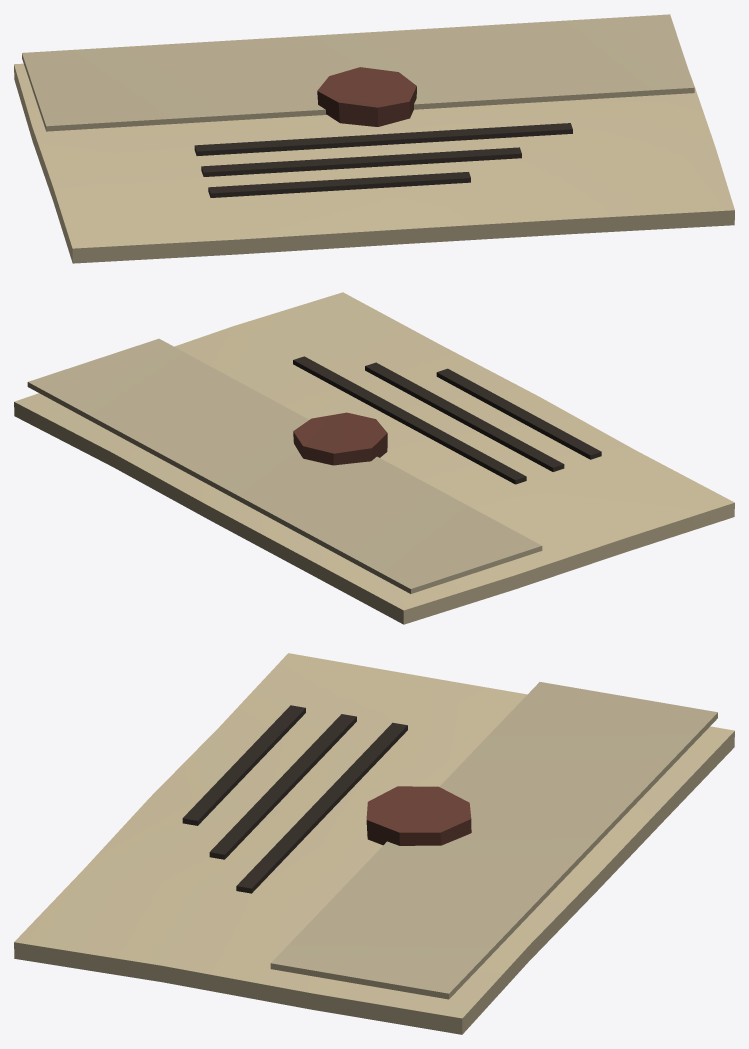
File: ph_item_letter.glb
The picture shows the model from 3 angles, top to bottom: view 1: azimuth 30°, elevation 25°; view 2: azimuth 150°, elevation 25°; view 3: azimuth 270°, elevation 25°; orthographic projection. The views are drawn at different scales.
Visible parts, largest first — view 1: ph_item_letter; view 2: ph_item_letter; view 3: ph_item_letter.
Boxes of the visible parts, left/top/right/bottom form: ph_item_letter: left=14, top=14, right=734, bottom=263; ph_item_letter: left=14, top=292, right=734, bottom=624; ph_item_letter: left=14, top=653, right=734, bottom=1034.
Size of the model in its own units: 0.1879 by 0.013 by 0.1574.
